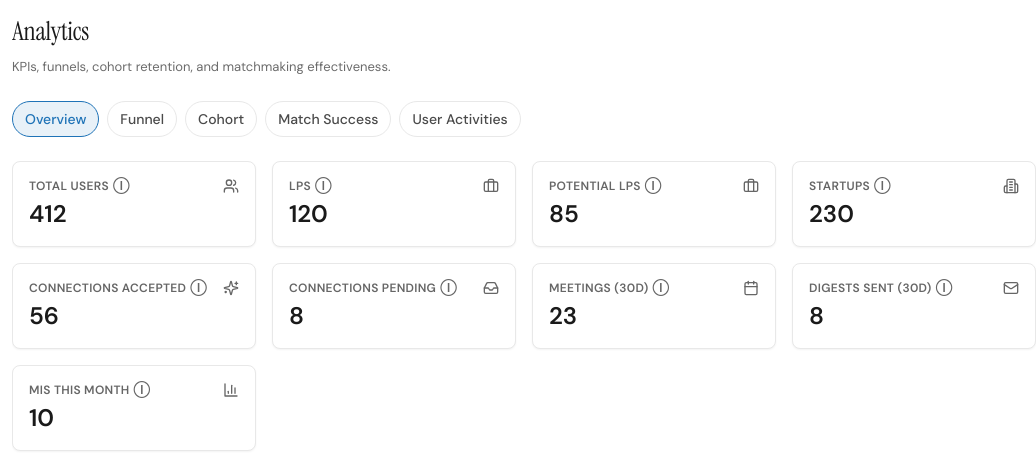
Scenario: AdminAnalyticsPage › Cohort tab renders the heatmap rows from the fixture
What coordinates should you click on to do the following:
click the tab with test id "analytics-tab-cohort"
I would click on:
 (221, 118)
Its box is [185, 100, 257, 136].
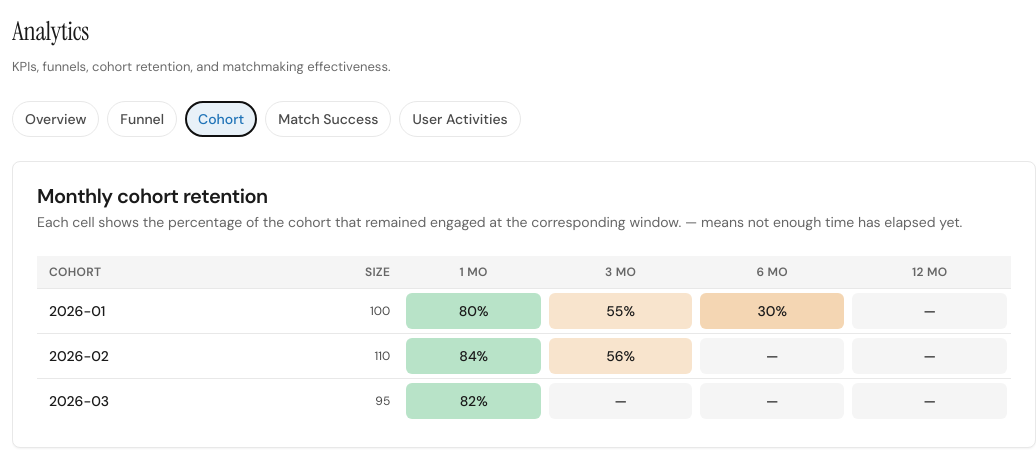
Result: the text "2026-01" is shown at [37, 288, 267, 333]
Result: the text "2026-02" is shown at [37, 333, 267, 378]
Result: the text "2026-03" is shown at [37, 378, 267, 422]
